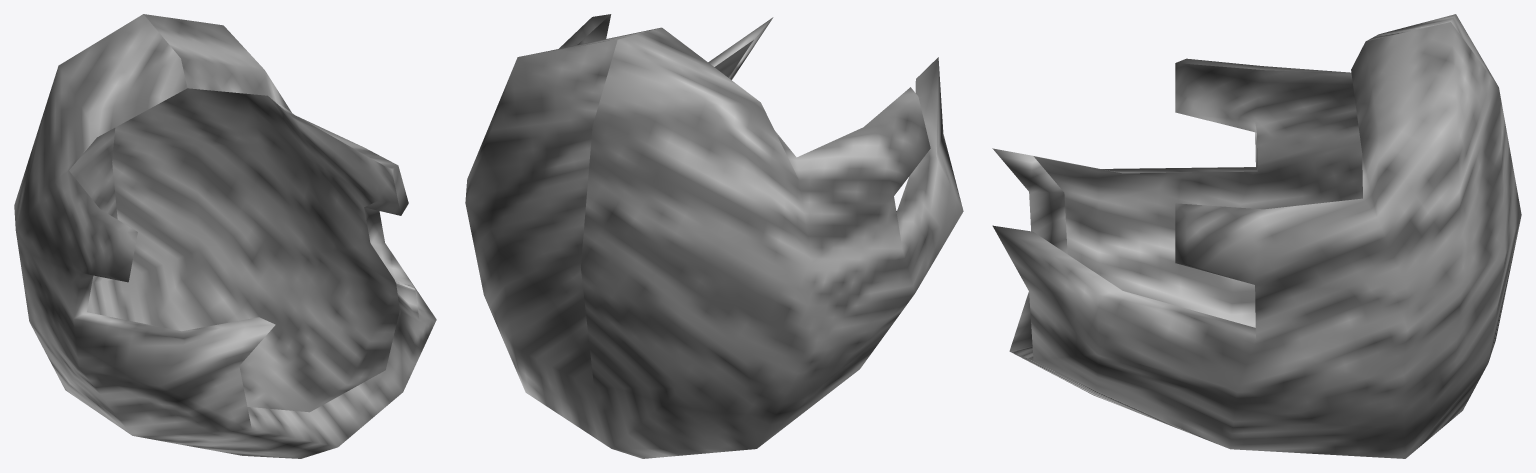
The model's file is Wig_M_Hair_Short.fbx.
3 renders of one model, left to right at view 1: azimuth 30°, elevation 25°; view 2: azimuth 150°, elevation 25°; view 3: azimuth 270°, elevation 25°, orthographic. The views are drawn at different scales.
Visible parts, largest first — view 1: BoxOfJars003; view 2: BoxOfJars003; view 3: BoxOfJars003.
Part boxes in pixels (x1=…): BoxOfJars003: x1=14, y1=14, x2=436, y2=458; BoxOfJars003: x1=465, y1=14, x2=963, y2=458; BoxOfJars003: x1=992, y1=14, x2=1521, y2=458.
Bounding box in the file's own units: 12.37 × 13.85 × 15.8.
